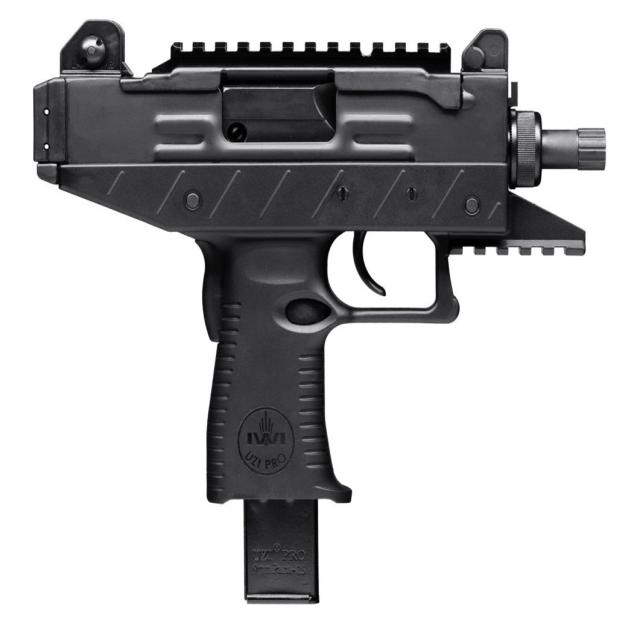SMG: (31, 20, 609, 606)
